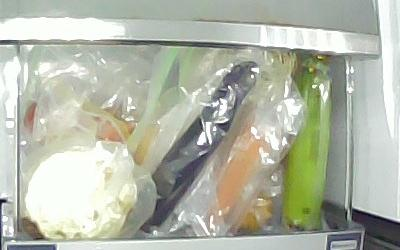cabbage_vinyl: (23, 140, 138, 239)
carrot_vinyl: (208, 117, 269, 226)
eggplant_vinyl: (124, 59, 260, 234)
zucchini: (278, 65, 331, 230)
